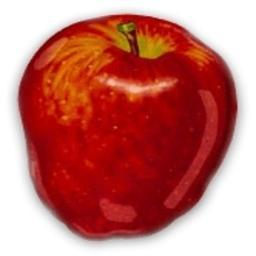apple: (14, 17, 237, 240)
